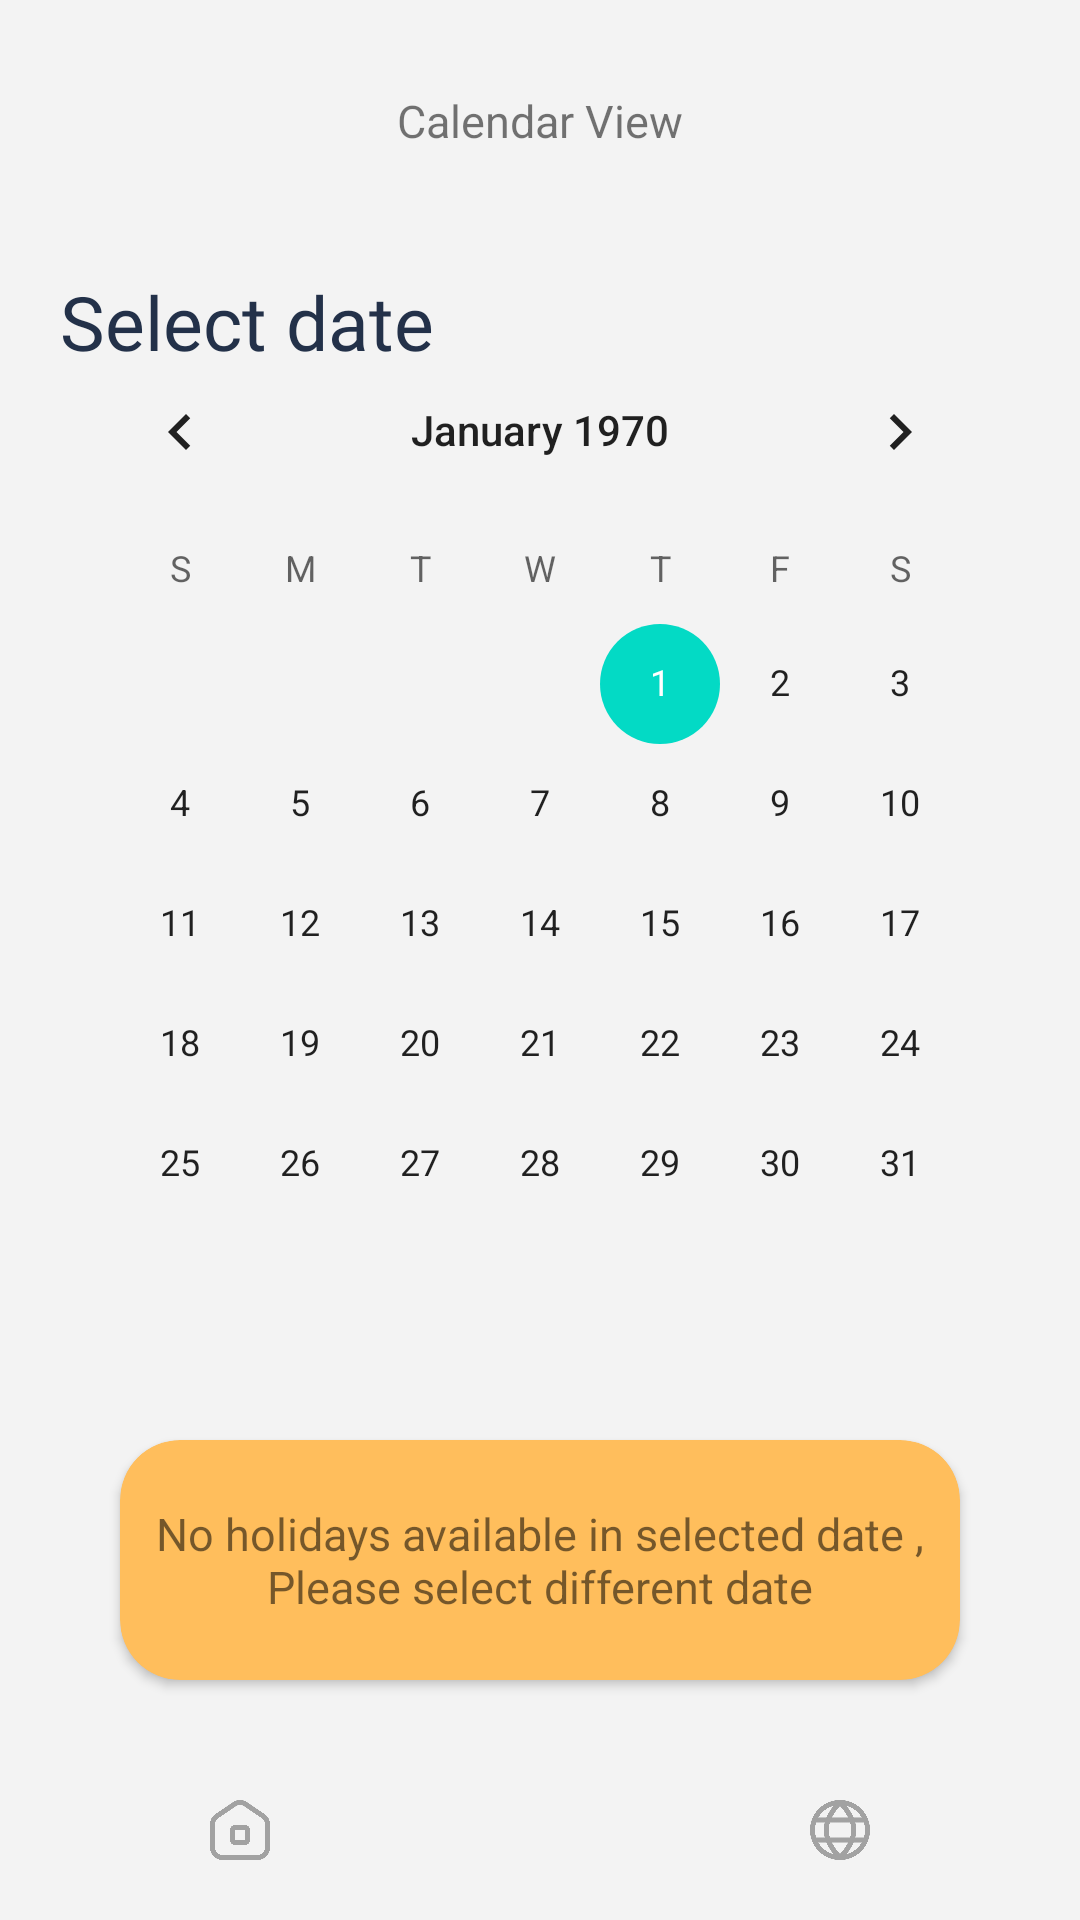

Screen size 1080px x 1920px. Icon name, then its box in pixels as box(x1, y1, x2, y2):
globe: box(810, 1800, 870, 1860)
homegray: box(210, 1800, 270, 1860)
